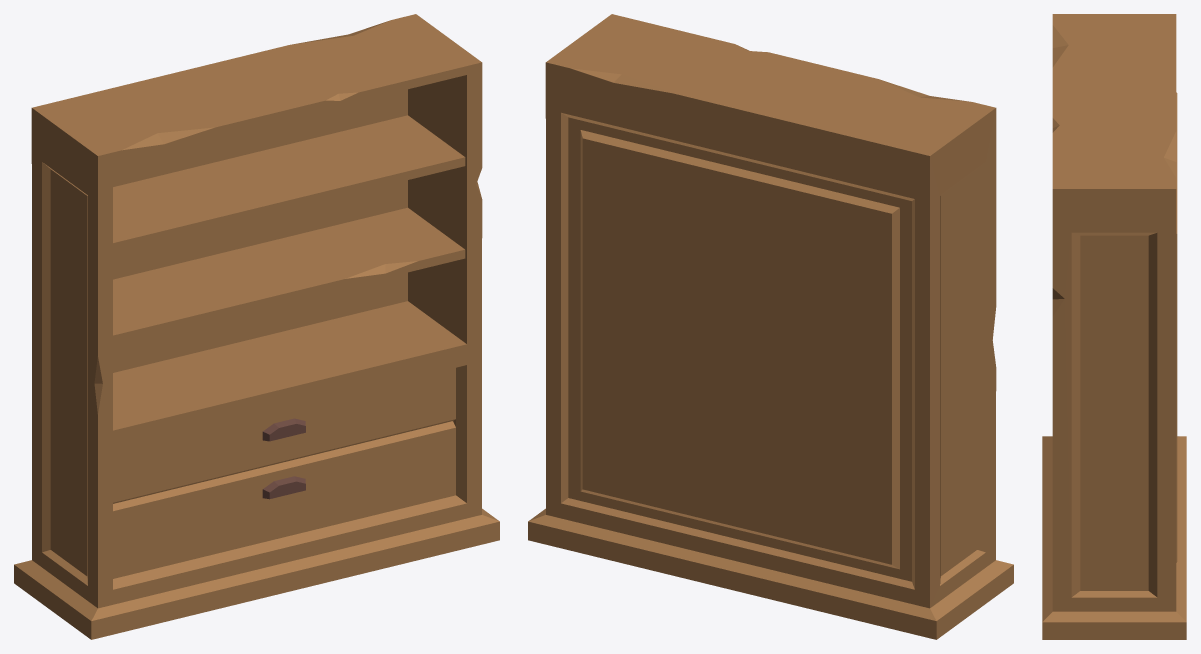
File: Shelf_01.FBX
3 renders of one model, left to right at view 1: azimuth 30°, elevation 25°; view 2: azimuth 150°, elevation 25°; view 3: azimuth 270°, elevation 25°, orthographic. The views are drawn at different scales.
Visible parts, largest first — view 1: Shelf_01; view 2: Shelf_01; view 3: Shelf_01.
Part boxes in pixels (bbox=[...]): Shelf_01: bbox=[14, 14, 499, 639]; Shelf_01: bbox=[528, 14, 1013, 639]; Shelf_01: bbox=[1042, 14, 1186, 639].
Bounding box in the file's own units: 136 × 152 × 44.76.
